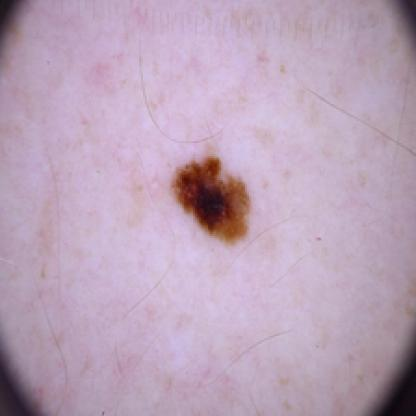Skin_Cancer-Malignant: (170, 156, 251, 245)
